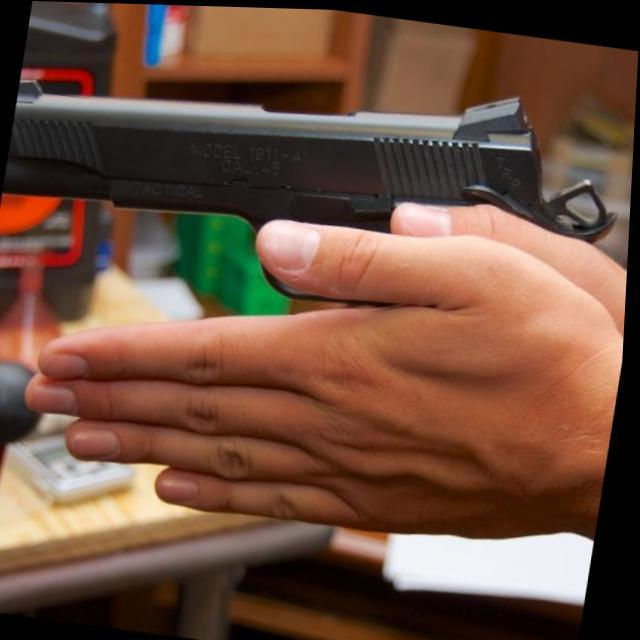weapon: (0, 28, 637, 334)
